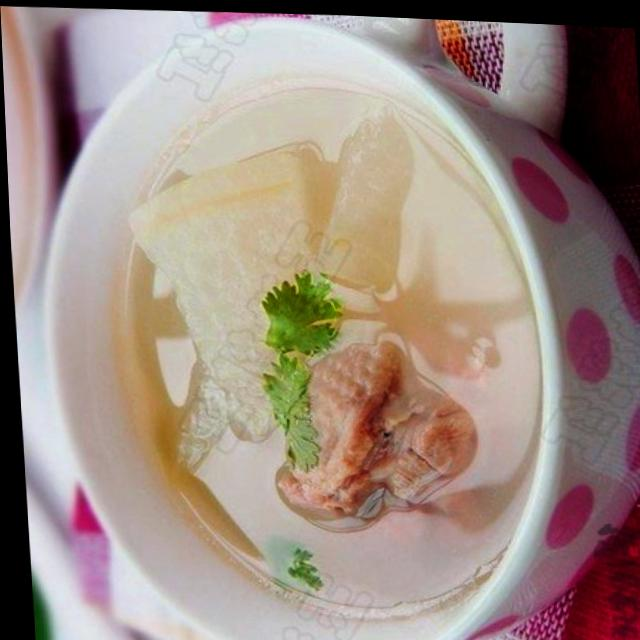汤锅炖物: (0, 0, 621, 640)
